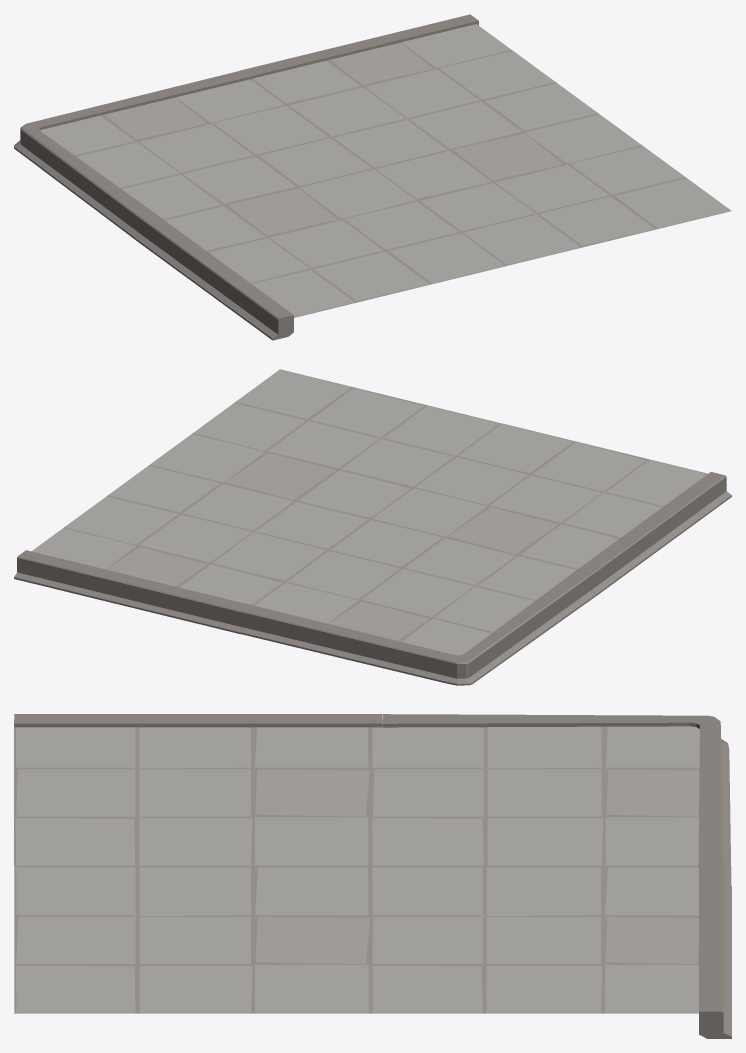
Rendered from BrickRoad_2.fbx.
3 views of the same model, one above another, from view 1: azimuth 30°, elevation 25°; view 2: azimuth 150°, elevation 25°; view 3: azimuth 270°, elevation 25° (orthographic). The views are drawn at different scales.
Visible parts, largest first — view 1: polySurface17; view 2: polySurface17; view 3: polySurface17.
Part boxes in pixels (x1,y1,x2,y2): polySurface17: (14,14,731,340); polySurface17: (14,369,731,685); polySurface17: (14,714,731,1038).
Size of the model in its own units: 4.95 by 0.2083 by 4.98.
